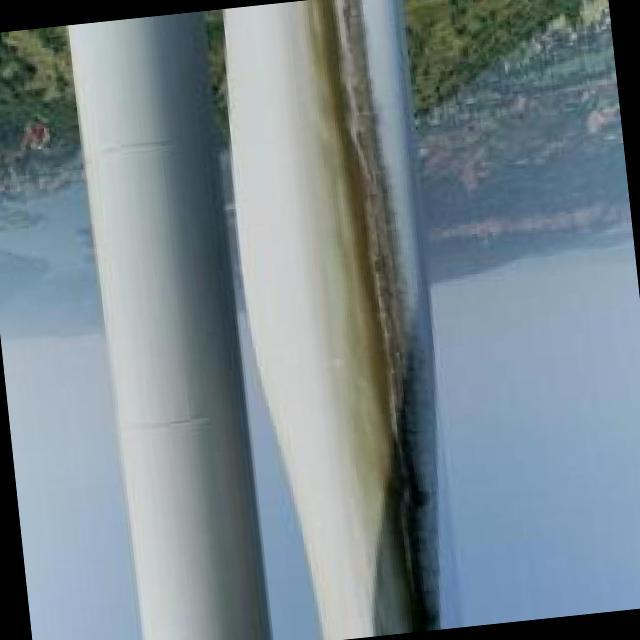Dirt: (305, 0, 443, 640)
Pin Hole: (406, 483, 431, 510)
